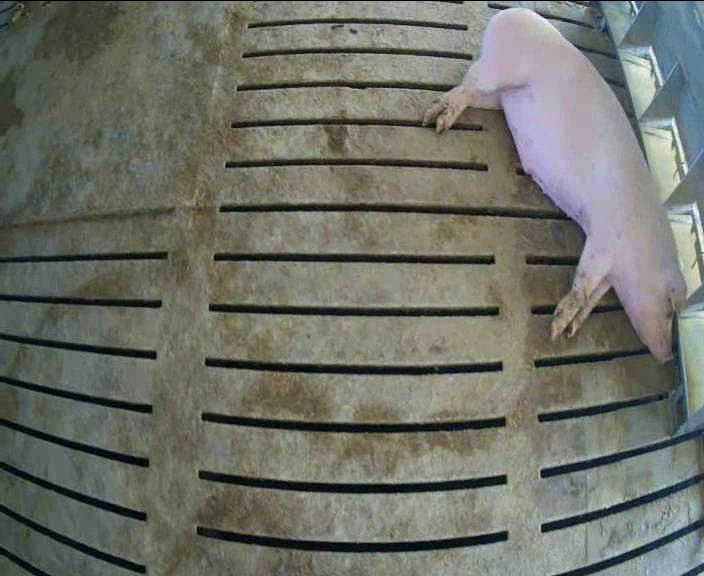pig: (424, 10, 685, 360)
